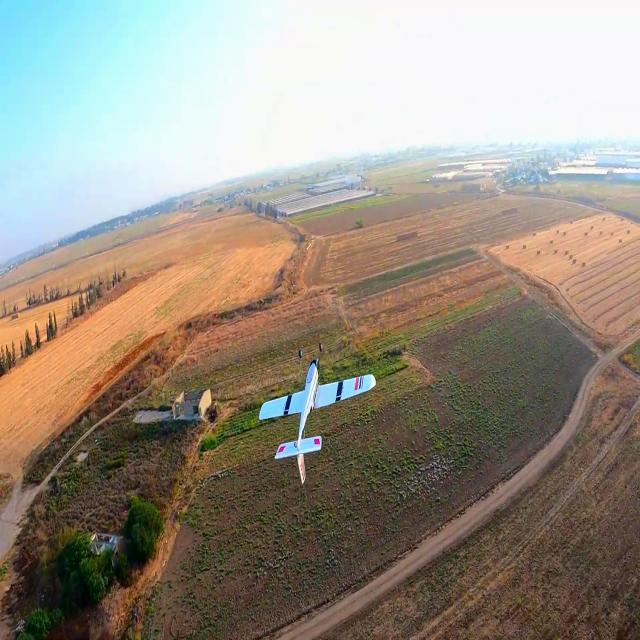iha: (287, 359, 345, 487)
